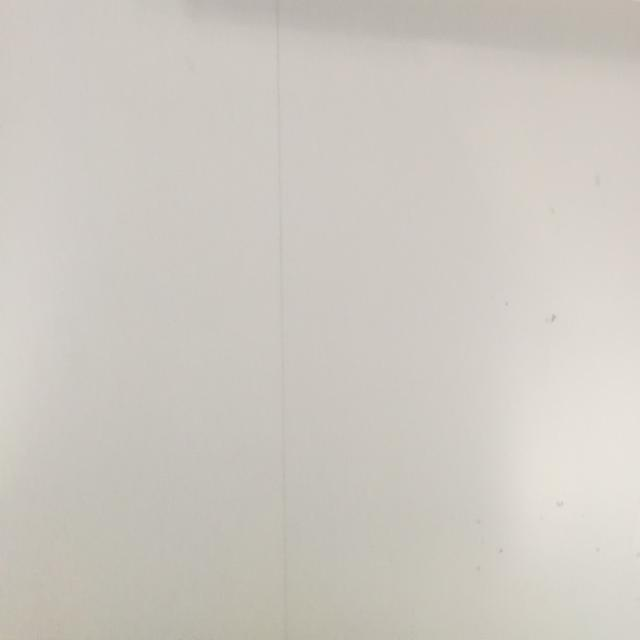fluorescent tube: (117, 0, 640, 78)
